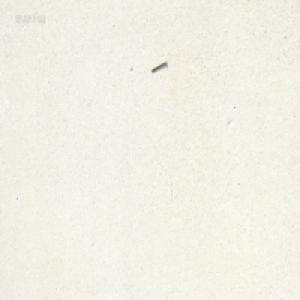Bolt: (150, 62, 166, 74)
